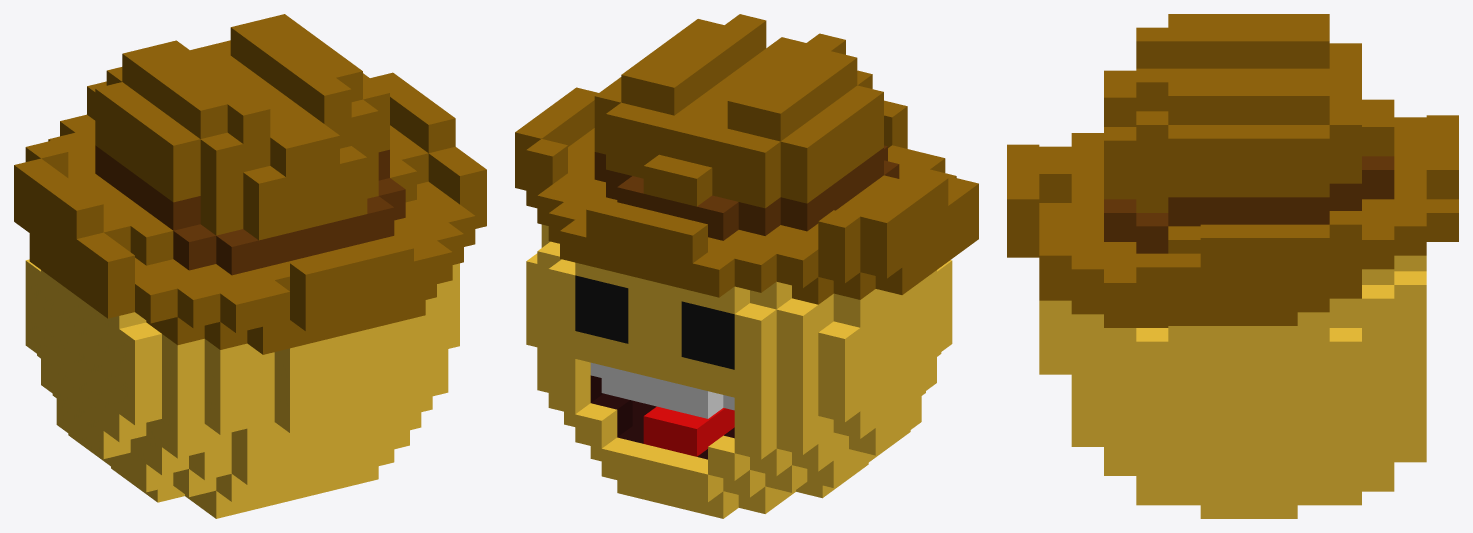
The model's file is cowboy16.obj.
3 renders of one model, left to right at view 1: azimuth 30°, elevation 25°; view 2: azimuth 150°, elevation 25°; view 3: azimuth 270°, elevation 25°, orthographic. The views are drawn at different scales.
Parts seen in each view (by area): view 1: cowboy16; view 2: cowboy16; view 3: cowboy16.
Boxes of the visible parts, left/top/right/bottom form: cowboy16: left=14, top=14, right=486, bottom=518; cowboy16: left=515, top=14, right=978, bottom=518; cowboy16: left=1007, top=14, right=1458, bottom=518.
Size of the model in its own units: 1.4 by 1.4 by 1.4.
